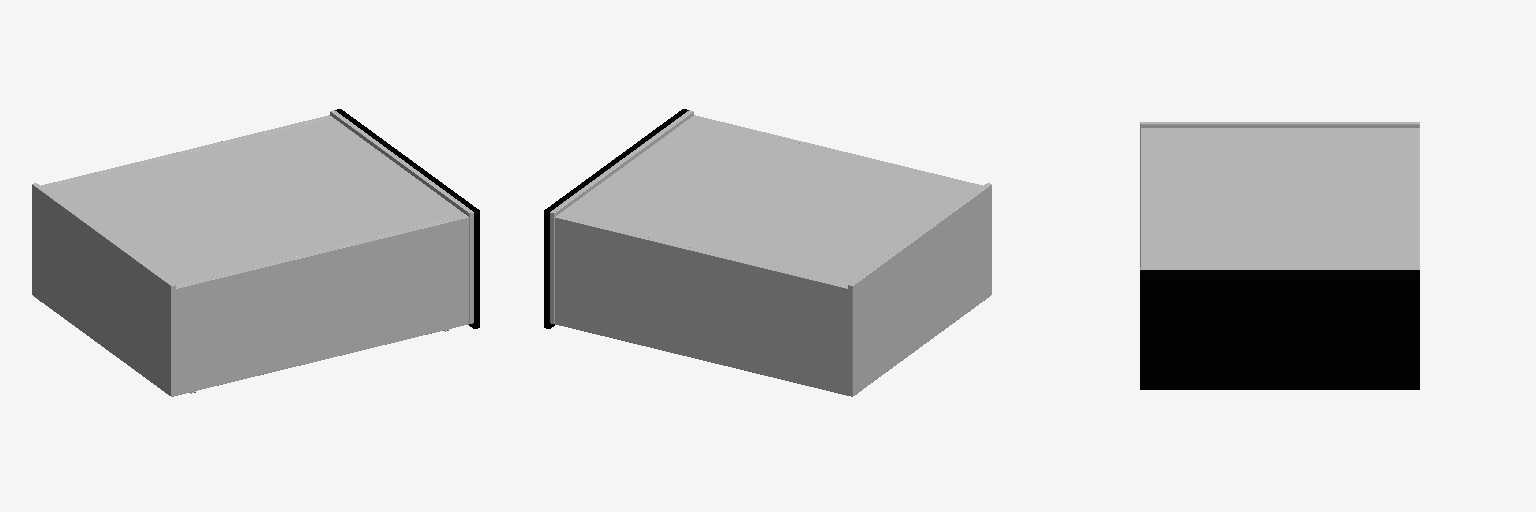
3 renders of one model, left to right at view 1: azimuth 30°, elevation 25°; view 2: azimuth 150°, elevation 25°; view 3: azimuth 270°, elevation 25°, orthographic.
Visible parts, largest first — view 1: SM_Kitchen_04_Base; view 2: SM_Kitchen_04_Base; view 3: SM_Kitchen_04_Base.
Part boxes in pixels (bbox=[...]): SM_Kitchen_04_Base: bbox=[32, 109, 479, 396]; SM_Kitchen_04_Base: bbox=[544, 109, 991, 396]; SM_Kitchen_04_Base: bbox=[1140, 122, 1419, 389].
Size of the model in its own units: 1.02 by 0.37 by 0.798.
Materials: 4 (1 with a texture image).